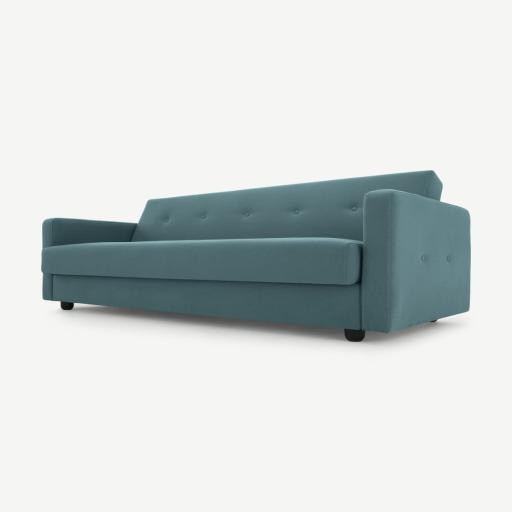back_cushion: (132, 171, 442, 241)
base: (43, 274, 360, 328)
left_arm: (361, 189, 470, 332)
legs: (344, 329, 365, 342), (60, 301, 74, 310)
one-seater: (0, 0, 511, 512)
right_arm: (43, 218, 136, 249)
seat_cushion: (42, 238, 361, 285)
